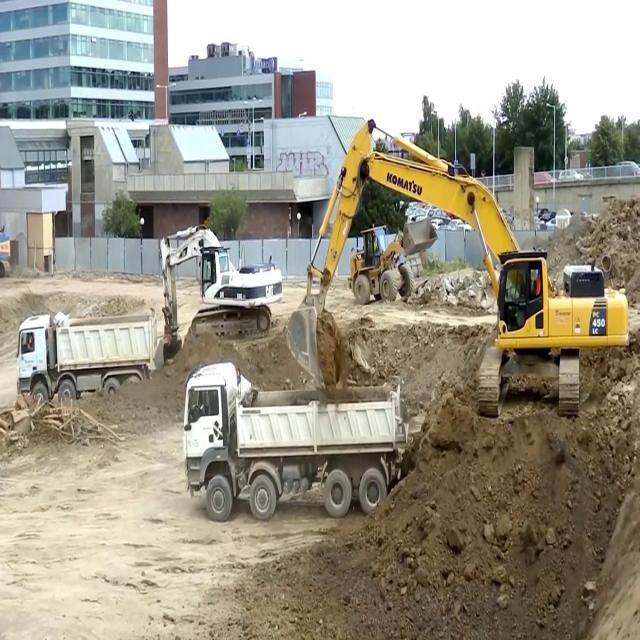Dump Truck: (182, 358, 408, 518), (14, 311, 158, 402)
Excavator: (284, 117, 630, 418), (153, 221, 281, 368)
Loader: (348, 215, 438, 301)
